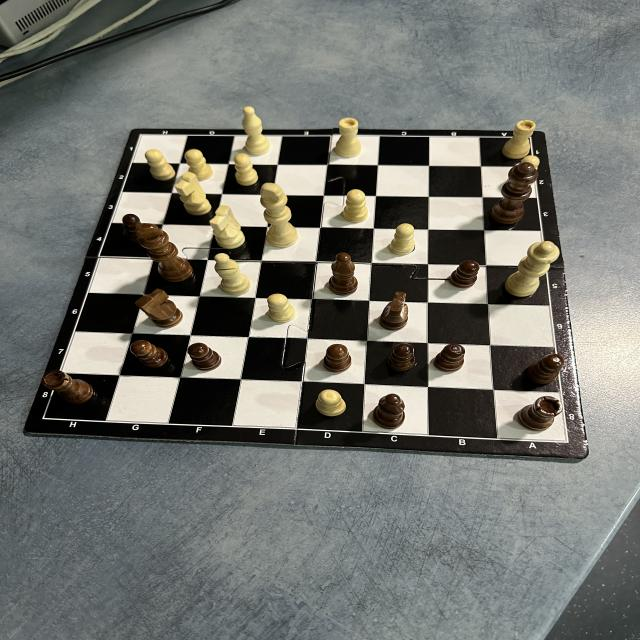Black-Bishop: (372, 393, 406, 429), (330, 253, 358, 294)
Black-King: (137, 223, 192, 281)
Black-Knight: (136, 288, 184, 328), (378, 291, 409, 330)
Black-Pawn: (526, 354, 564, 384), (130, 340, 168, 368), (434, 343, 465, 372), (188, 344, 221, 370), (450, 260, 479, 288), (323, 344, 351, 372), (388, 343, 415, 372), (122, 214, 145, 246)
Black-Queen: (491, 163, 537, 222)
Black-Rook: (44, 371, 94, 405), (520, 396, 562, 429)
White-Bishop: (214, 253, 251, 296), (242, 106, 269, 154)
White-King: (260, 182, 298, 247)
White-Knight: (174, 173, 211, 215), (210, 205, 245, 249)
White-Pawn: (146, 149, 176, 181), (185, 149, 213, 180), (342, 190, 367, 222), (268, 294, 296, 322), (316, 389, 344, 417), (234, 153, 258, 185), (390, 224, 414, 255), (522, 156, 541, 170)
White-Queen: (504, 241, 560, 296)
White-Rook: (502, 120, 535, 158), (335, 118, 362, 156)
